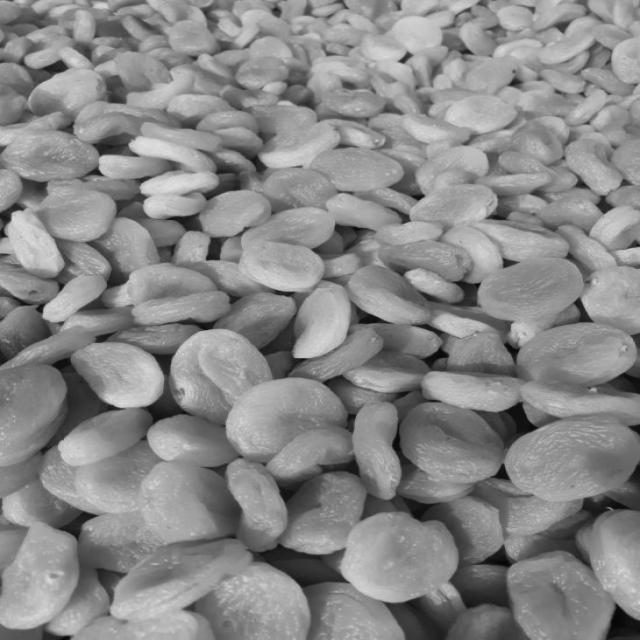kayisi: (202, 211, 424, 512)
